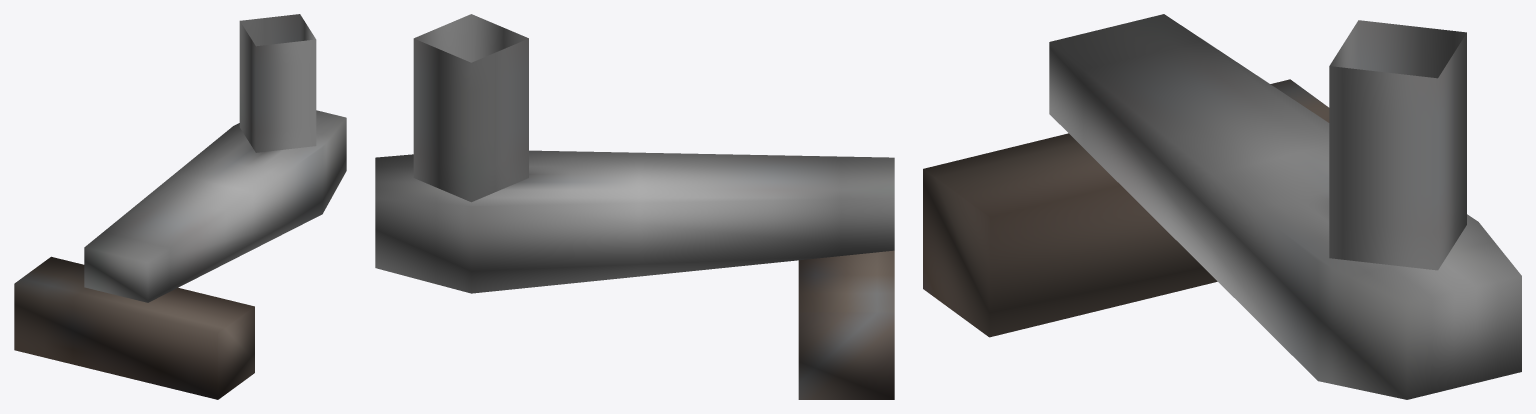
File: batch_0099.obj
3 views of the same model, side by side, from view 1: azimuth 30°, elevation 25°; view 2: azimuth 150°, elevation 25°; view 3: azimuth 270°, elevation 25° (orthographic). The views are drawn at different scales.
Visible parts, largest first — view 1: batch_0099; view 2: batch_0099; view 3: batch_0099.
Part boxes in pixels (<box>): batch_0099: <box>14,14,346,399</box>; batch_0099: <box>375,14,894,399</box>; batch_0099: <box>923,14,1521,399</box>.
Size of the model in its own units: 14.32 by 8.5 by 11.3.
1 material, 1 textured.
